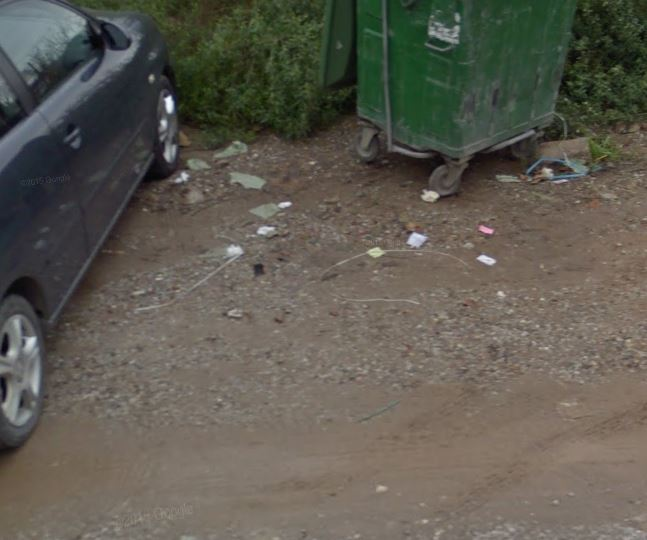trash: (169, 137, 279, 214), (509, 133, 611, 197), (401, 221, 430, 252), (358, 241, 392, 266), (471, 214, 499, 238)
